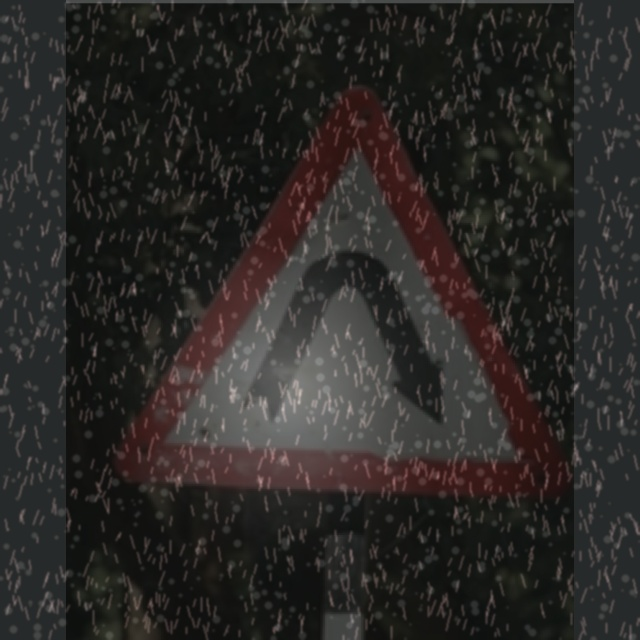Right_Hair_Pin_Bend: (118, 88, 553, 496)
